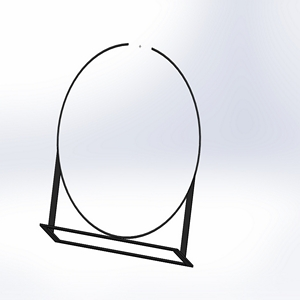circle: (39, 38, 202, 270)
